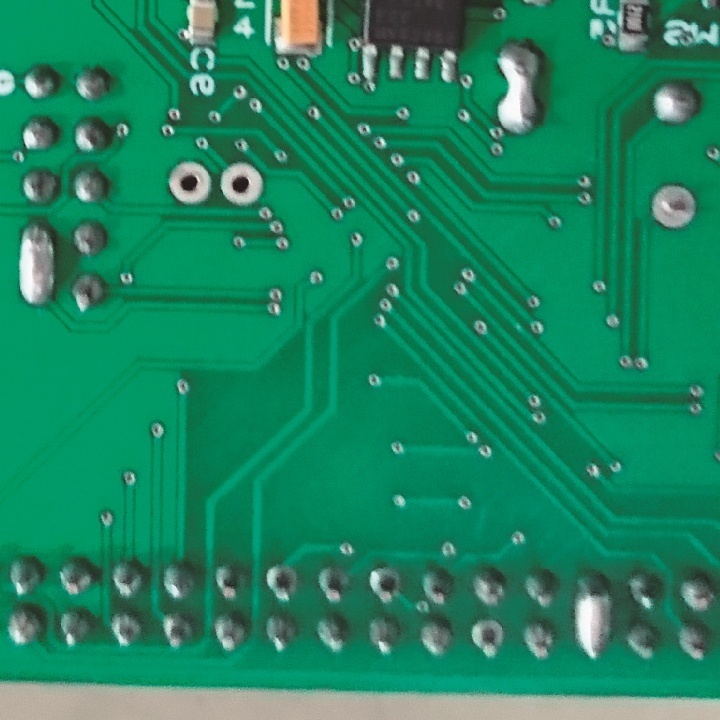F: (648, 183, 696, 231), (167, 159, 213, 207), (219, 161, 264, 210), (266, 561, 301, 605), (470, 618, 507, 658), (369, 564, 401, 605)
P: (494, 38, 544, 140), (12, 218, 57, 314), (573, 567, 613, 664)
